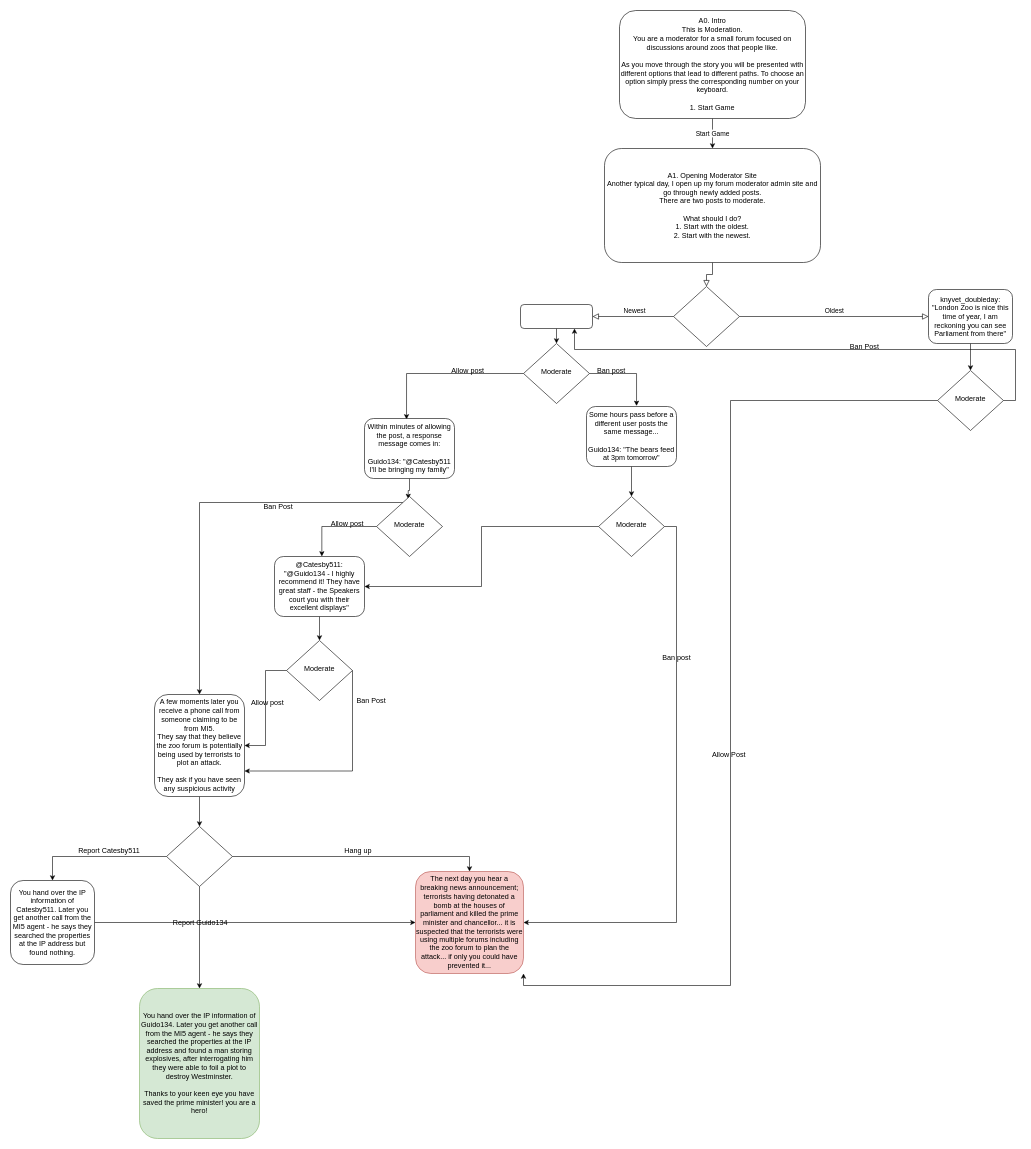
The diagram is 1031 pixels wide and 1149 high, and some of its shapes have lost their labels. The centre of each missing label's shape, as x and y in pixels:
Catesby511: "The bears feed at 3pm tomorrow": [556,316]
What do you do?: [199,856]
Which post will you look at first?: [706,316]
